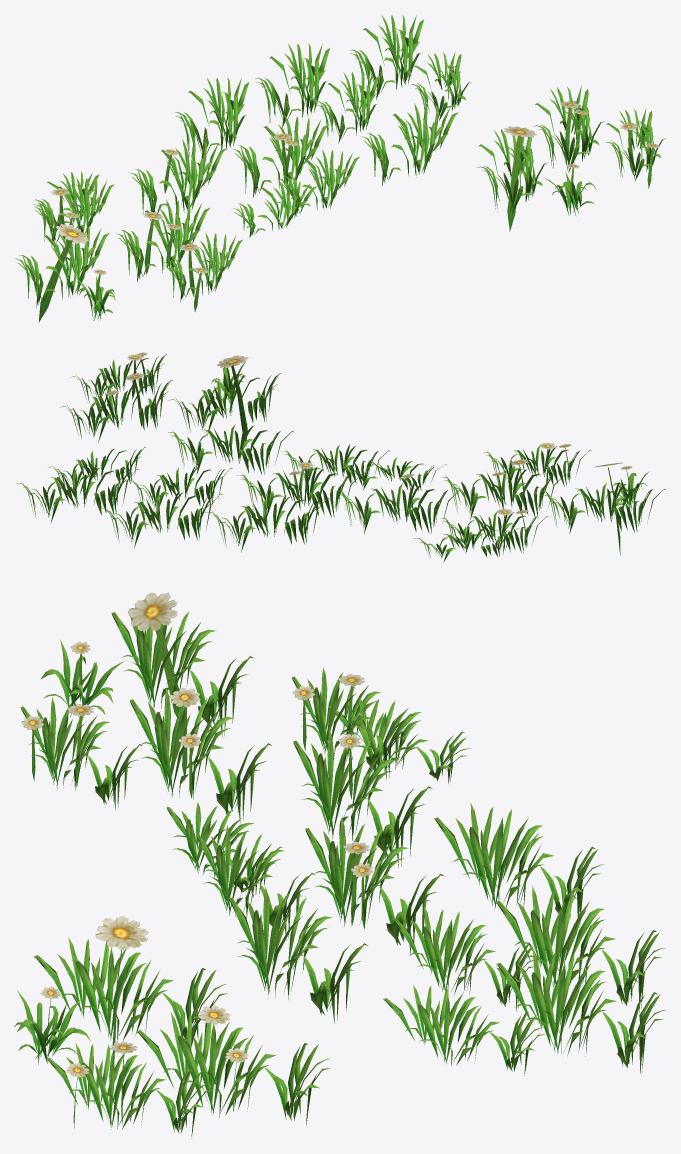
The model's file is huahua_08.fbx.
3 views of the same model, one above another, from view 1: azimuth 30°, elevation 25°; view 2: azimuth 150°, elevation 25°; view 3: azimuth 270°, elevation 25° (orthographic). The views are drawn at different scales.
Visible parts, largest first — view 1: polySurface8640; view 2: polySurface8640; view 3: polySurface8640.
Boxes of the visible parts, box(x1,y1,x2,y2) form: polySurface8640: box(15, 15, 665, 322); polySurface8640: box(16, 352, 666, 562); polySurface8640: box(14, 592, 665, 1138).
Bounding box in the file's own units: 1581 × 231 × 905.
